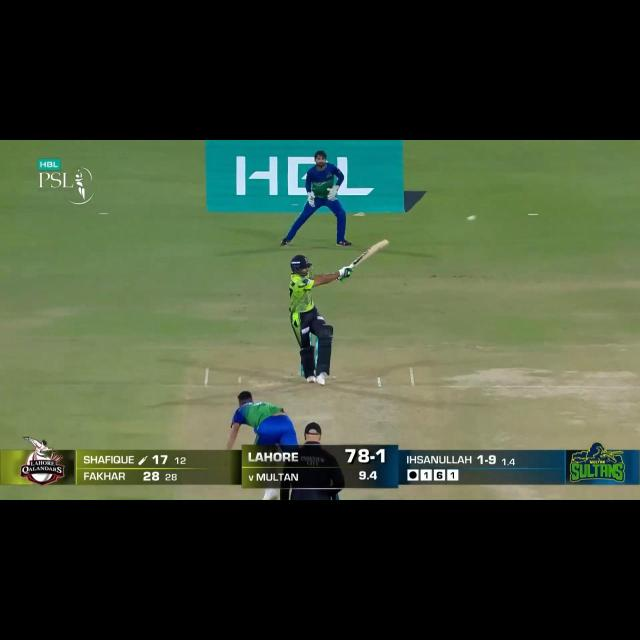bat: (349, 236, 392, 270)
toe: (380, 238, 390, 246)
